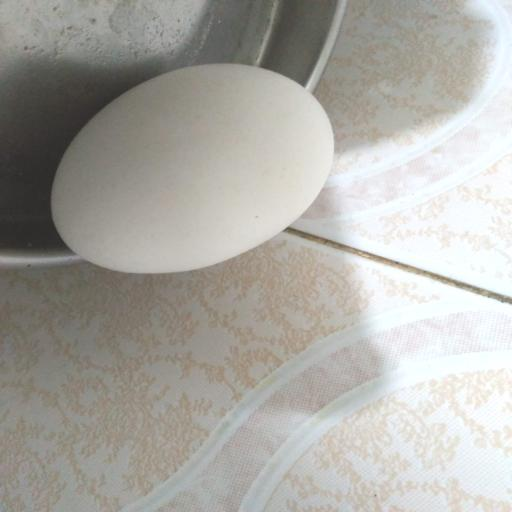telur: (40, 54, 341, 282)
